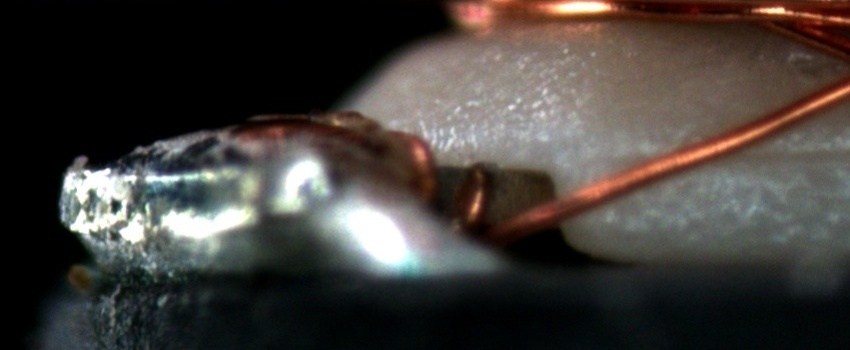DL: (630, 127, 849, 191)
TE: (383, 130, 493, 228)
